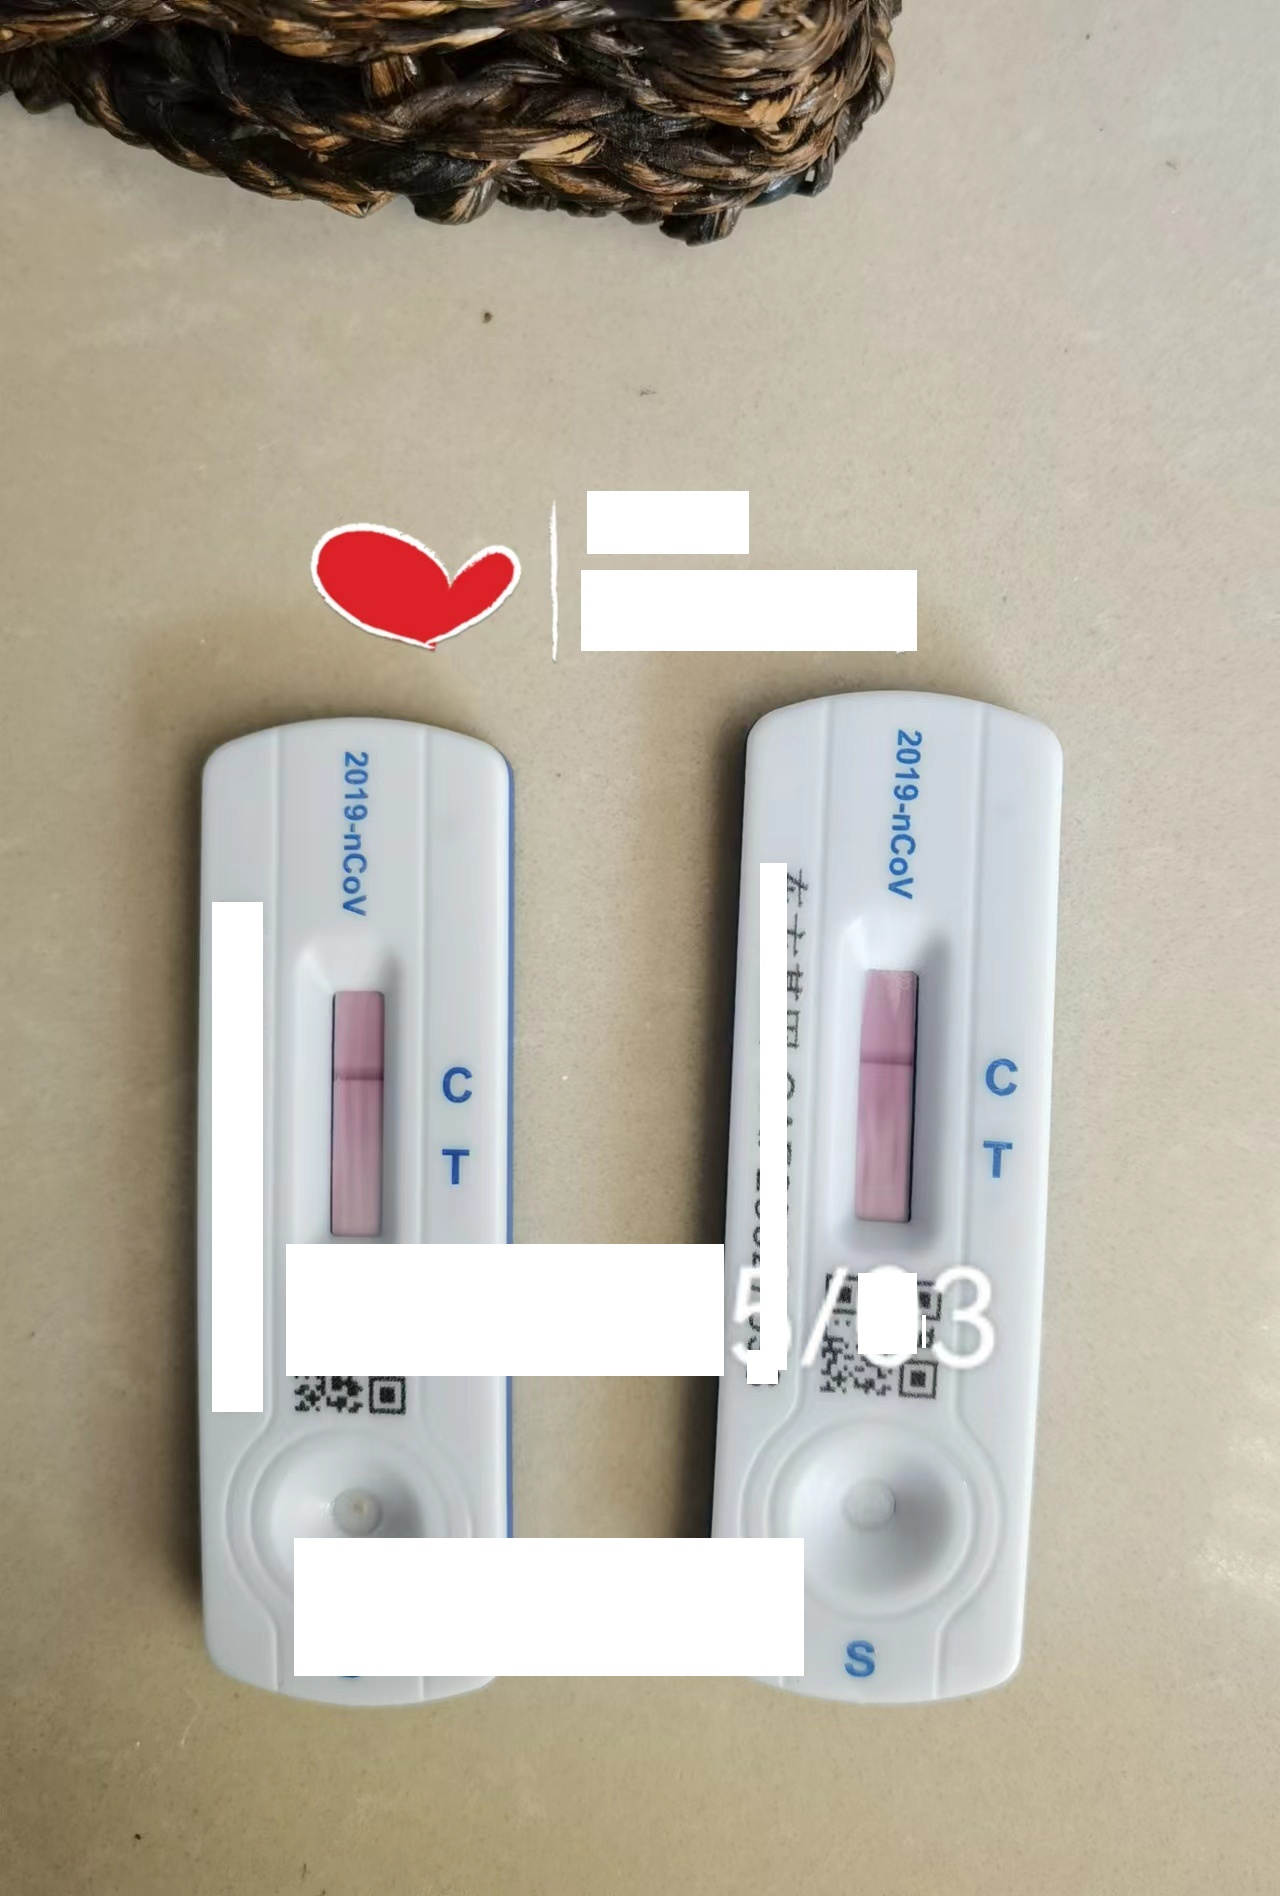negative: (309, 957, 401, 1252), (844, 954, 927, 1246)
